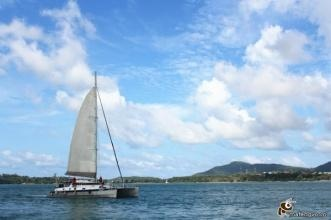fanchuan: (42, 70, 150, 202)
